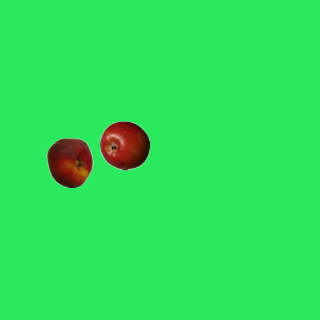Apple Braeburn: (99, 120, 149, 170)
Nectarine Flat: (44, 137, 94, 187)
